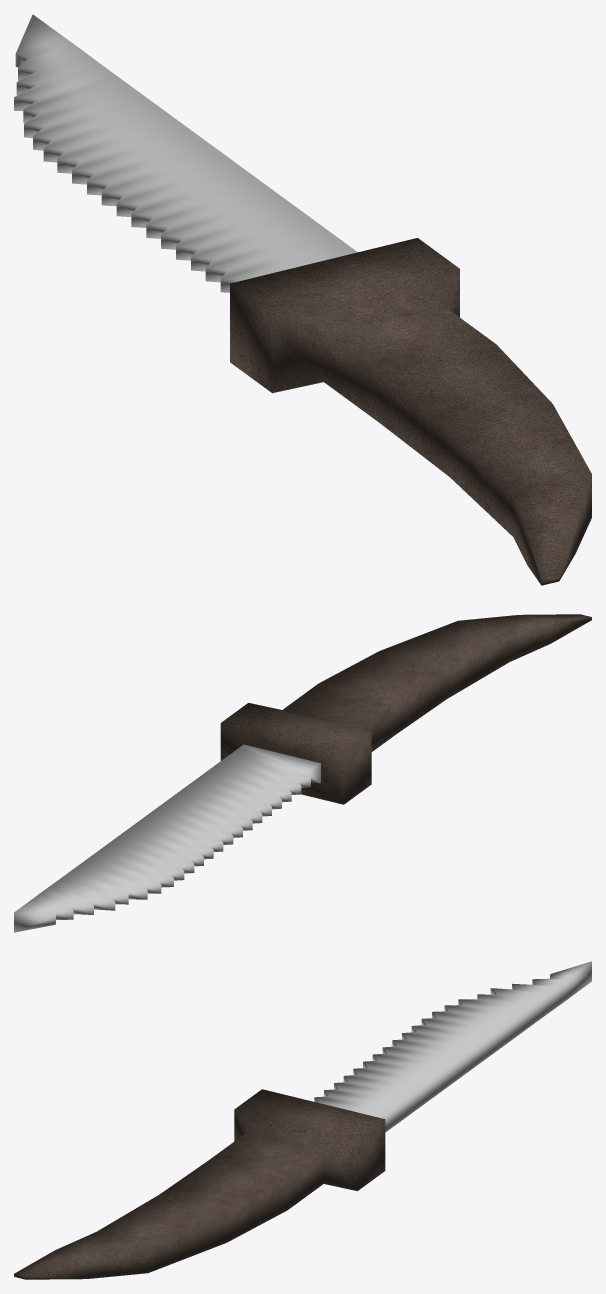
The model's file is coltello.fbx.
3 renders of one model, top to bottom at view 1: azimuth 30°, elevation 25°; view 2: azimuth 150°, elevation 25°; view 3: azimuth 330°, elevation 25°, orthographic. The views are drawn at different scales.
Visible parts, largest first — view 1: coltello; view 2: coltello; view 3: coltello.
Part boxes in pixels (x1=…): coltello: x1=14, y1=14, x2=591, y2=585; coltello: x1=14, y1=614, x2=591, y2=932; coltello: x1=14, y1=961, x2=591, y2=1279.
Size of the model in its own units: 4.61 by 1.57 by 25.14.
